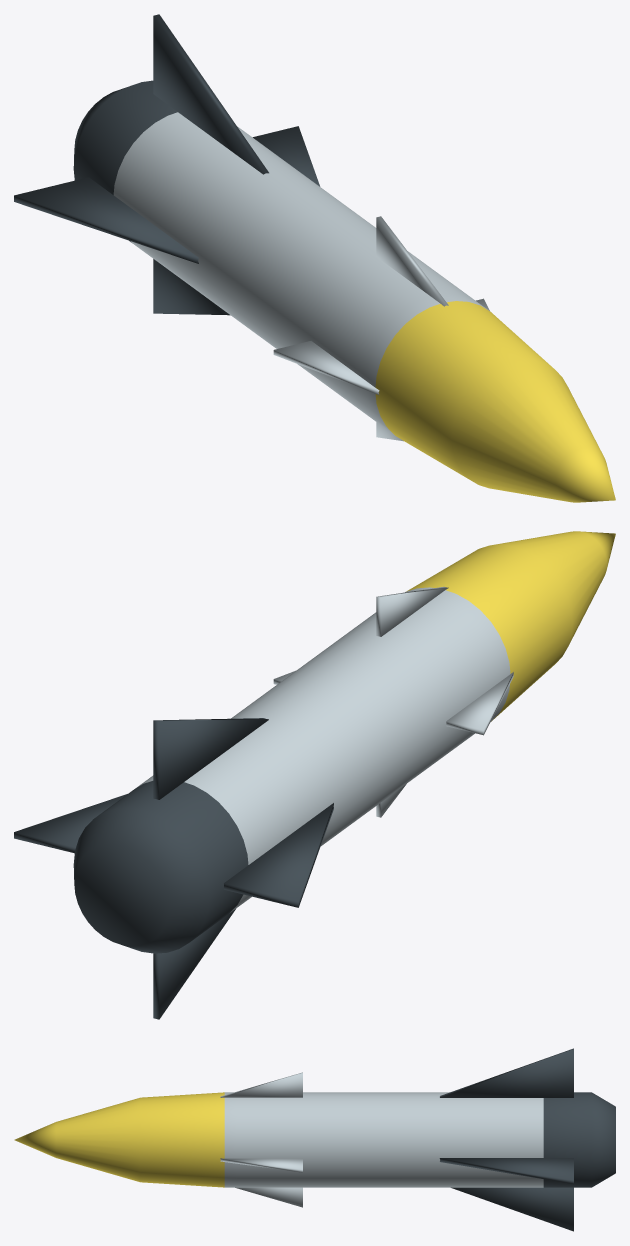
The model's file is missile_scout_projectile_display.glb.
3 renders of one model, top to bottom at view 1: azimuth 30°, elevation 25°; view 2: azimuth 150°, elevation 25°; view 3: azimuth 270°, elevation 25°, orthographic. The views are drawn at different scales.
Visible parts, largest first — view 1: AMMO_MESH.057; view 2: AMMO_MESH.057; view 3: AMMO_MESH.057.
Boxes of the visible parts, x1,y1,x2,y2 form: AMMO_MESH.057: (14, 14, 615, 502); AMMO_MESH.057: (14, 531, 615, 1019); AMMO_MESH.057: (14, 1048, 615, 1231).
Size of the model in its own units: 0.399 by 0.399 by 1.2.
